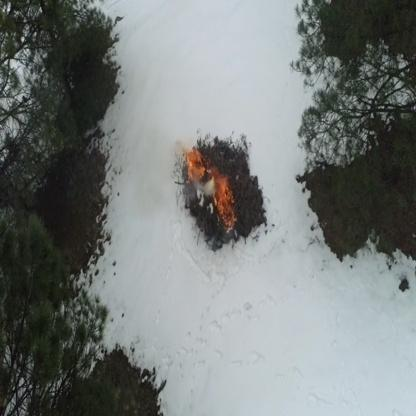Fire: (213, 169, 229, 209), (221, 191, 235, 226), (188, 149, 204, 179)
